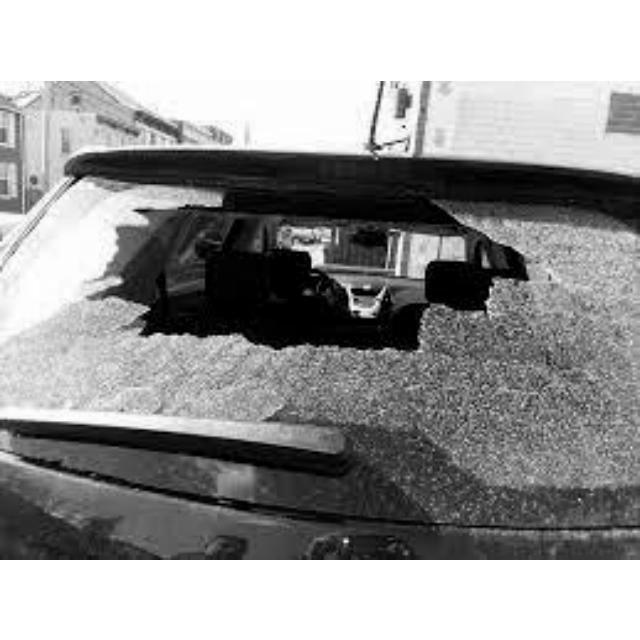Rear-windscreen-Damage: (0, 140, 632, 515)
